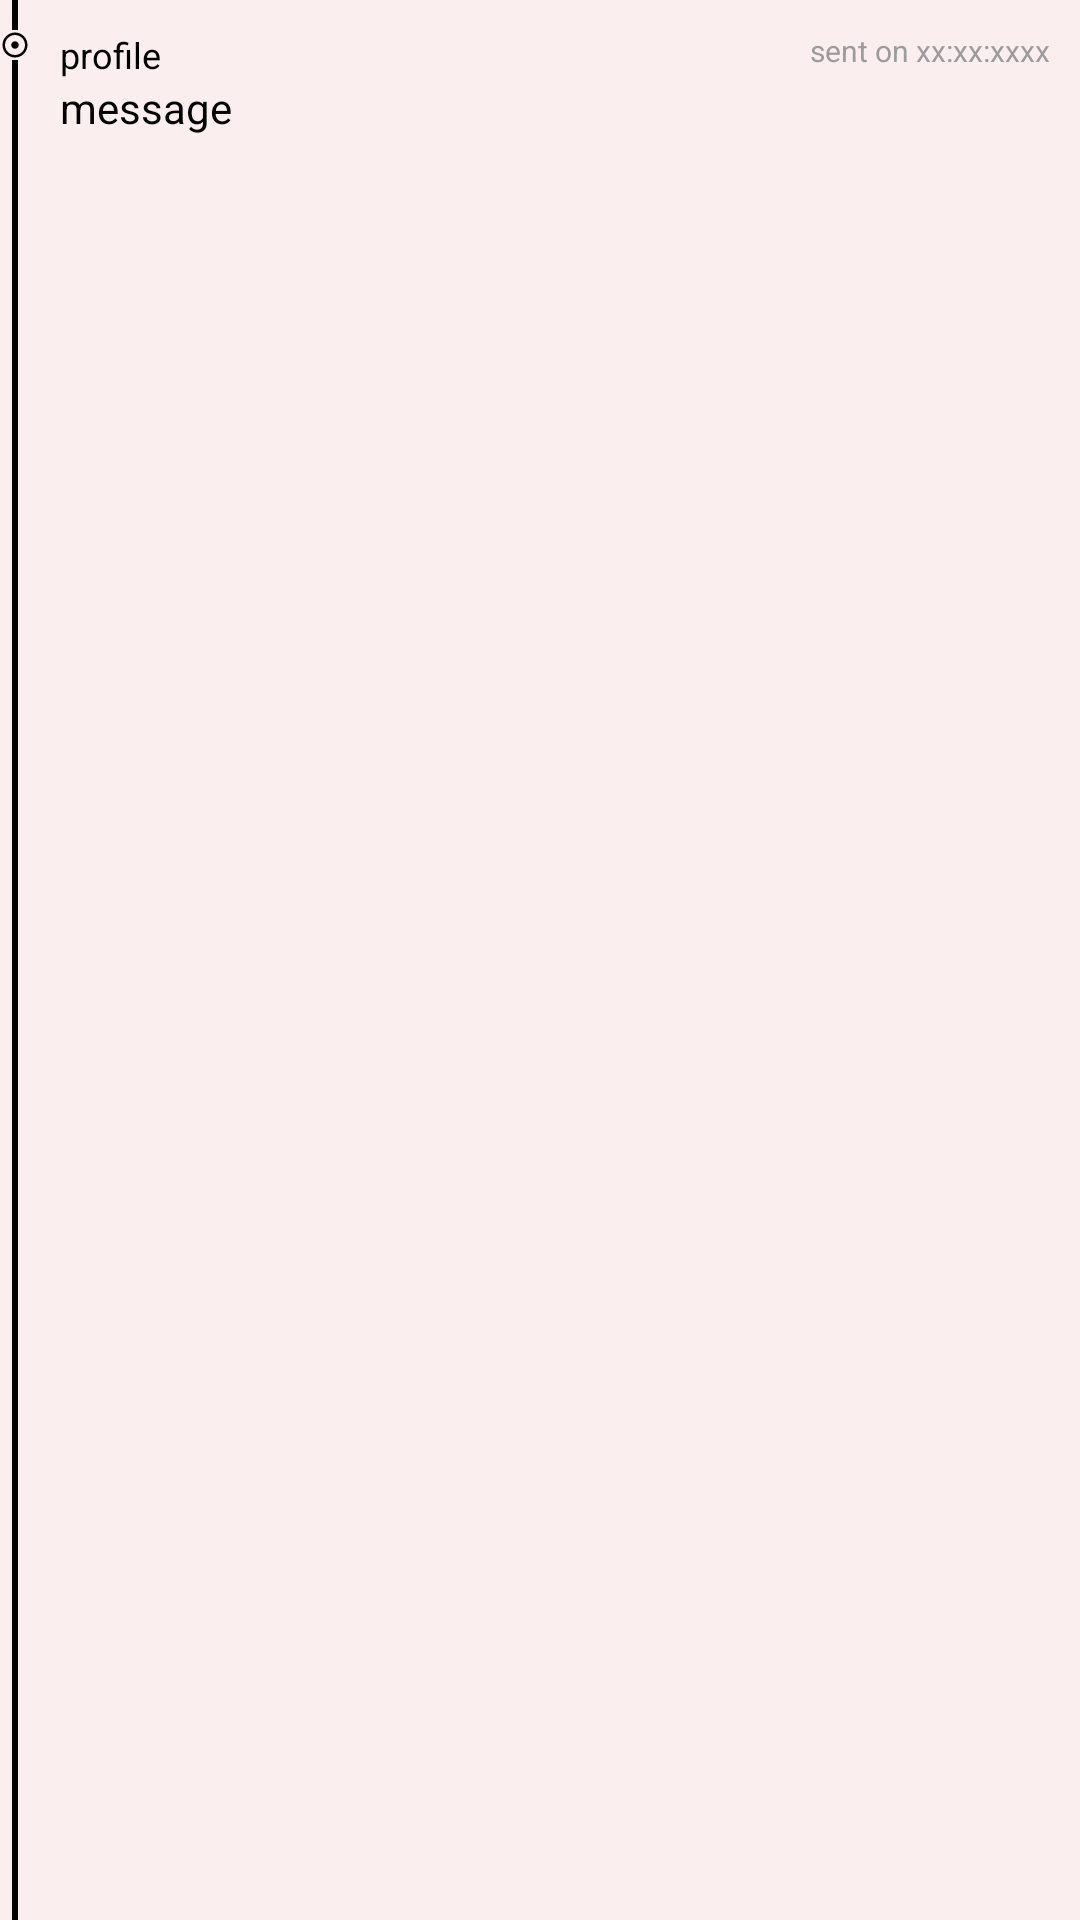

Icon click points for this 1080×1920 phone screenshot, format (x,y):
start: (15,45)
